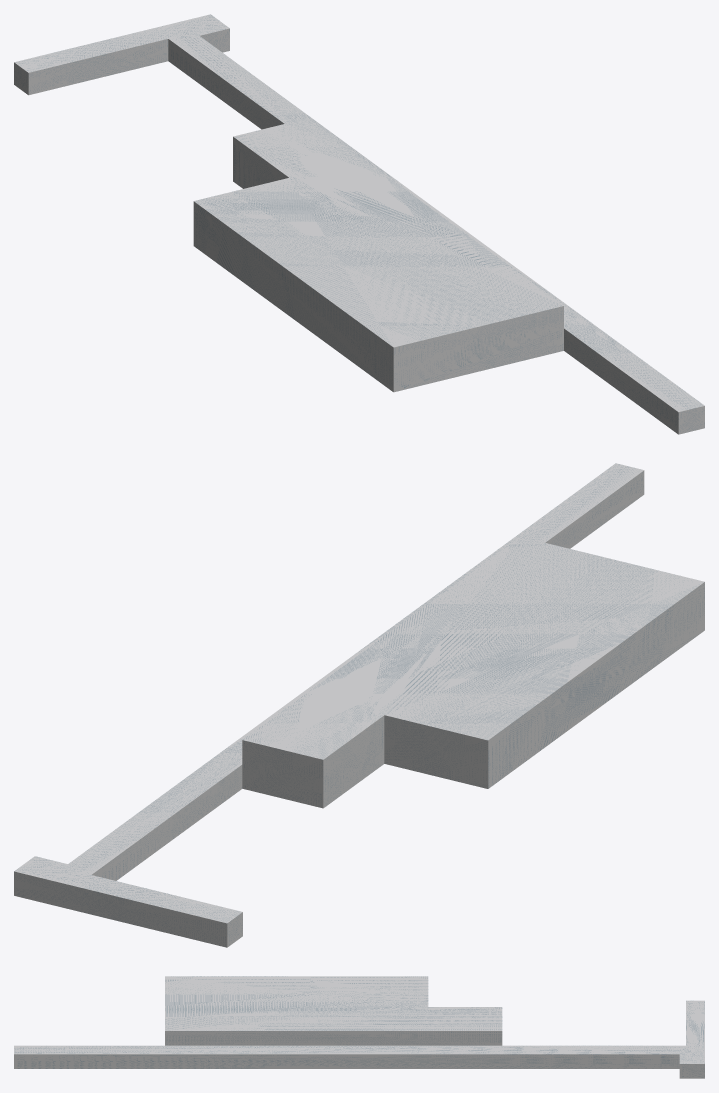
The model's file is WSSS_ZT_TERMINAL_4.dae.
The picture shows the model from 3 angles, top to bottom: view 1: azimuth 30°, elevation 25°; view 2: azimuth 150°, elevation 25°; view 3: azimuth 270°, elevation 25°; orthographic projection. The views are drawn at different scales.
Parts seen in each view (by area): view 1: SketchUp (×3); view 2: SketchUp (×3); view 3: SketchUp (×3).
Part boxes in pixels (x1=…): SketchUp (×3): x1=14, y1=14, x2=704, y2=434; SketchUp (×3): x1=14, y1=463, x2=704, y2=947; SketchUp (×3): x1=14, y1=976, x2=704, y2=1078.
Bounding box in the file's own units: 8344 × 33361 × 1575.
